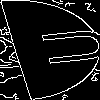U: (24, 25, 100, 69)
